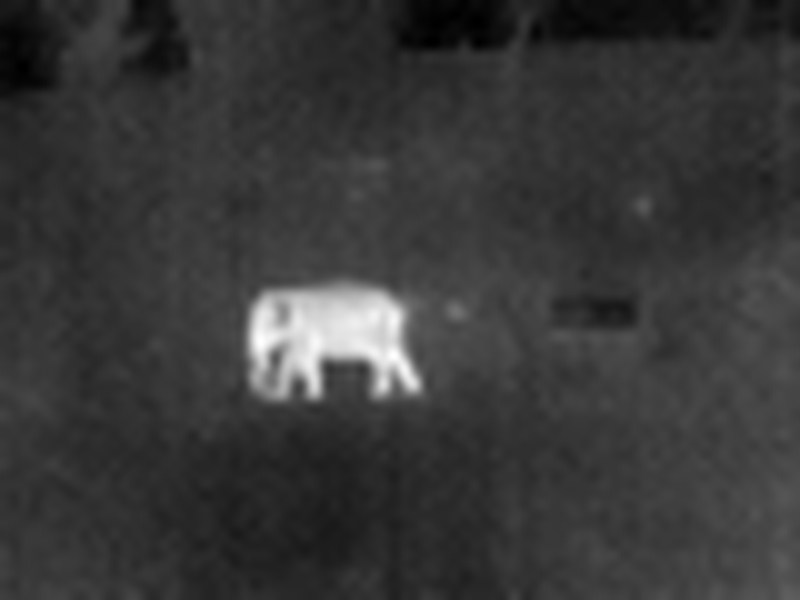elephant: (209, 261, 433, 433)
